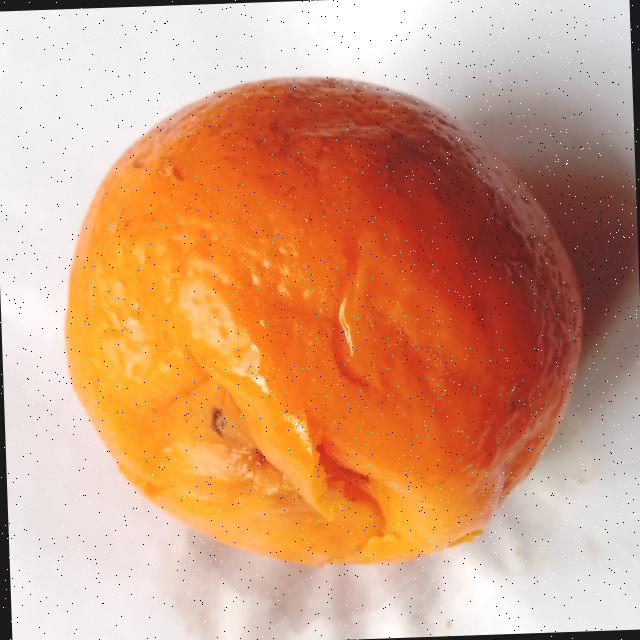Rotten: (49, 66, 592, 576)
